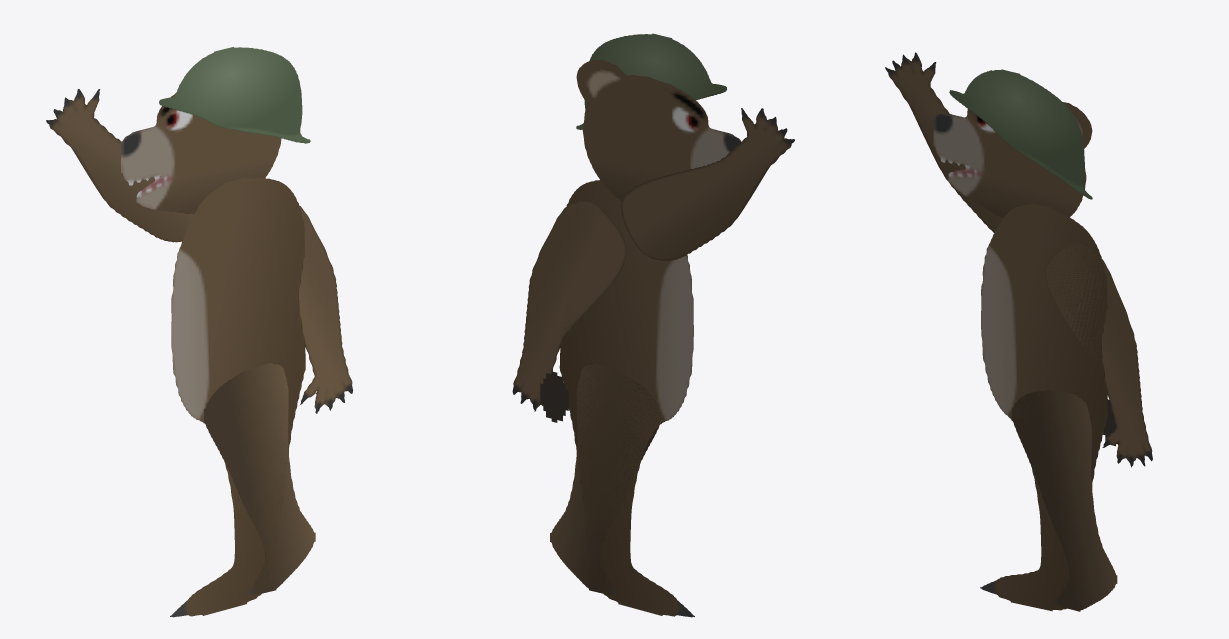
Rendered from karu_animatsioon.fbx.
3 views of the same model, side by side, from view 1: azimuth 30°, elevation 25°; view 2: azimuth 150°, elevation 25°; view 3: azimuth 330°, elevation 25° (orthographic). The views are drawn at different scales.
Visible parts, largest first — view 1: keha, jalg2, pea, kiiver, viskekäsi, käsi; view 2: keha, pea, viskekäsi, jalg2, käsi, kiiver, saba; view 3: keha, jalg2, pea, käsi, kiiver, viskekäsi.
Part boxes in pixels (x1,y1,x2,y2): keha: (170, 177, 305, 617); jalg2: (204, 363, 315, 594); pea: (121, 93, 281, 214); kiiver: (159, 47, 310, 143); viskekäsi: (46, 89, 194, 242); käsi: (296, 205, 352, 413); keha: (559, 180, 694, 617); pea: (576, 59, 741, 201); viskekäsi: (620, 108, 794, 260); jalg2: (550, 364, 660, 594); käsi: (512, 200, 626, 411); kiiver: (576, 33, 726, 129); saba: (540, 371, 568, 422); keha: (980, 203, 1108, 611); jalg2: (1012, 390, 1117, 611); pea: (933, 102, 1092, 218); käsi: (1045, 243, 1152, 467); kiiver: (949, 69, 1092, 199); viskekäsi: (885, 52, 1002, 232).
Bounding box in the file's own units: 70.22 × 103 × 7.12.
Materials: 7 (7 with a texture image).
